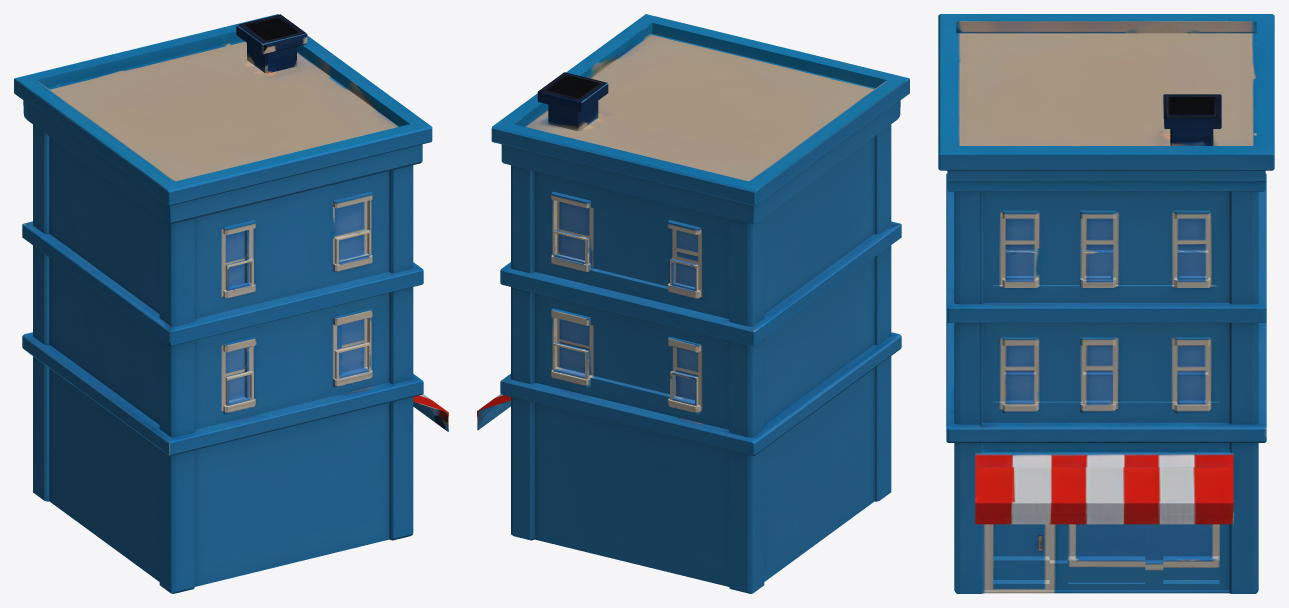
The model's file is buildingBlue.fbx.
3 views of the same model, side by side, from view 1: azimuth 30°, elevation 25°; view 2: azimuth 150°, elevation 25°; view 3: azimuth 270°, elevation 25° (orthographic). The views are drawn at different scales.
Parts seen in each view (by area): view 1: tripo_node_ab050b58; view 2: tripo_node_ab050b58; view 3: tripo_node_ab050b58.
Part boxes in pixels (bbox=[...]): tripo_node_ab050b58: bbox=[14, 14, 448, 593]; tripo_node_ab050b58: bbox=[477, 14, 909, 593]; tripo_node_ab050b58: bbox=[938, 14, 1274, 593].
Bounding box in the file's own units: 67.88 × 94.96 × 61.29.
1 material, 1 textured.
